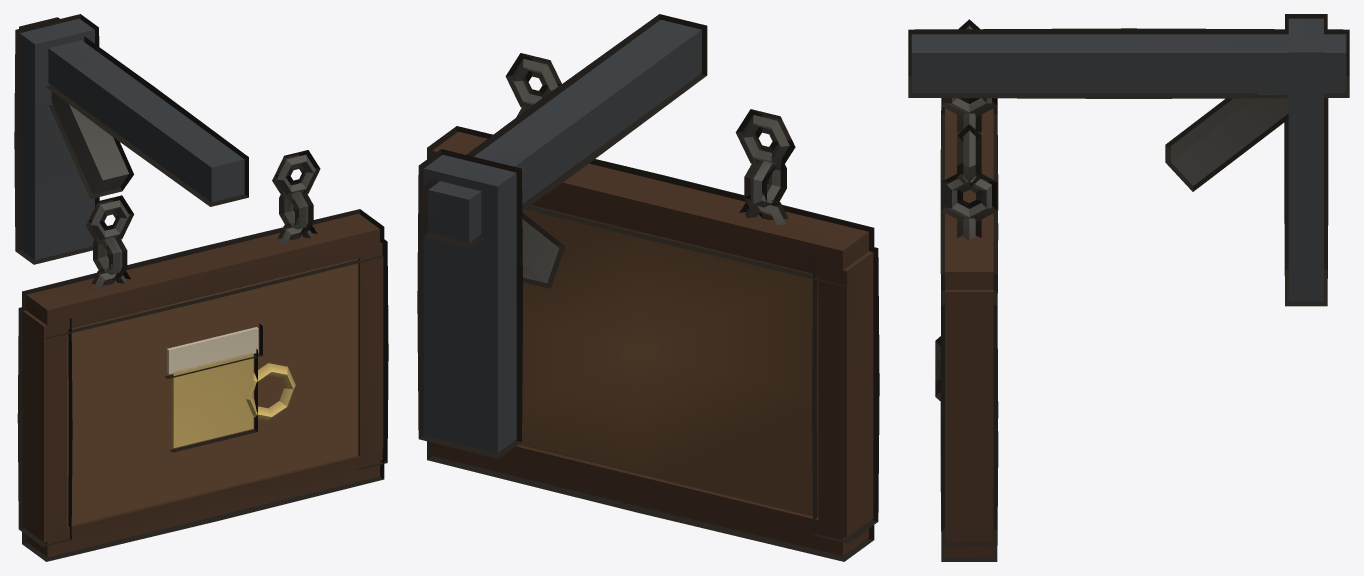
File: enseigne.glb
The picture shows the model from 3 angles, left to right: view 1: azimuth 30°, elevation 25°; view 2: azimuth 150°, elevation 25°; view 3: azimuth 270°, elevation 25°; orthographic projection. The views are drawn at different scales.
Visible parts, largest first — view 1: enseigne, enseigne_outline; view 2: enseigne, enseigne_outline; view 3: enseigne, enseigne_outline.
Part boxes in pixels (left/top/right/bottom): enseigne: left=19, top=18, right=383, bottom=557; enseigne_outline: left=14, top=14, right=388, bottom=561; enseigne: left=423, top=20, right=873, bottom=556; enseigne_outline: left=417, top=14, right=879, bottom=561; enseigne: left=911, top=18, right=1346, bottom=557; enseigne_outline: left=908, top=14, right=1349, bottom=561.
Bounding box in the file's own units: 1.04 × 1.08 × 0.9962.
